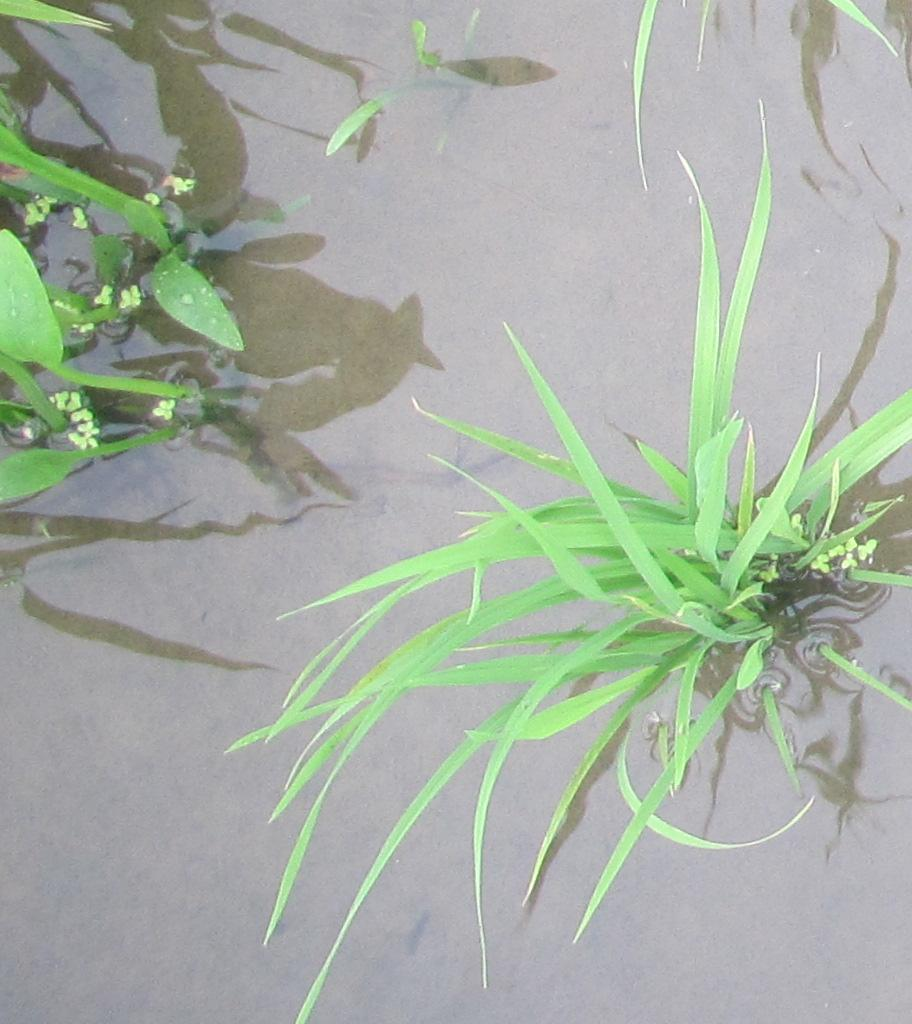Weed: (3, 200, 244, 503)
